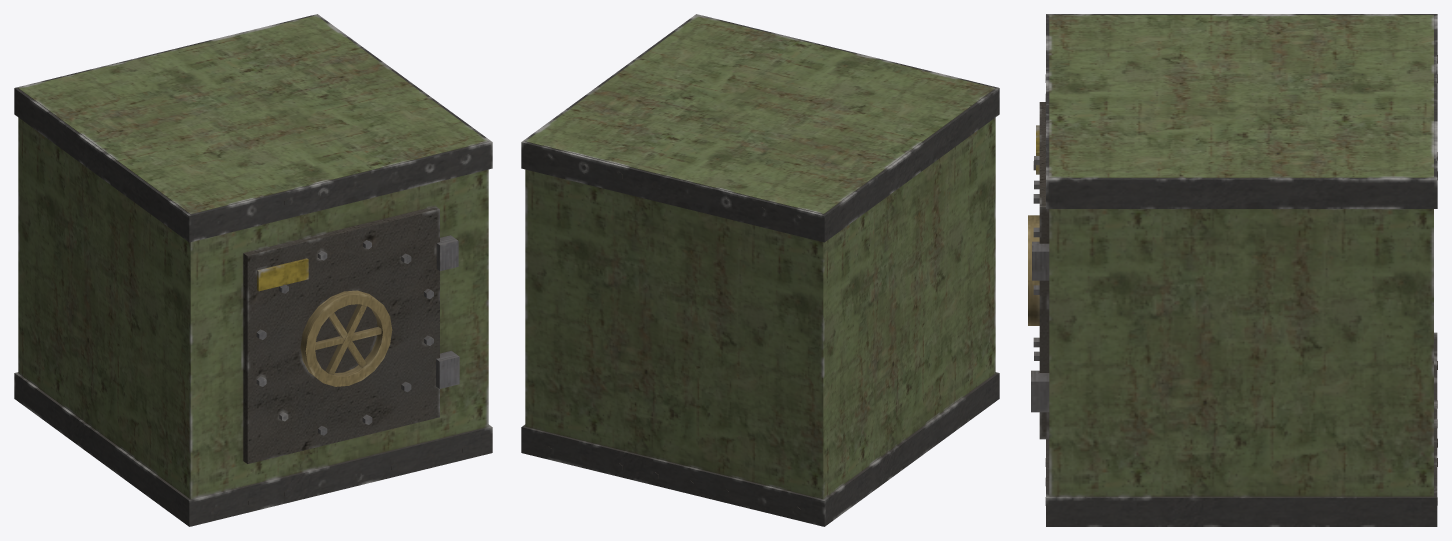
File: feItemVault_HD.fbx
The picture shows the model from 3 angles, left to right: view 1: azimuth 30°, elevation 25°; view 2: azimuth 150°, elevation 25°; view 3: azimuth 270°, elevation 25°; orthographic projection. The views are drawn at different scales.
Visible parts, largest first — view 1: feItemVault_Base; view 2: feItemVault_Base; view 3: feItemVault_Base.
Boxes of the visible parts, left/top/right/bottom form: feItemVault_Base: left=14, top=14, right=492, bottom=526; feItemVault_Base: left=521, top=14, right=999, bottom=526; feItemVault_Base: left=1028, top=14, right=1437, bottom=526.
Bounding box in the file's own units: 0.9812 × 0.9636 × 1.03.
1 material, 1 textured.
